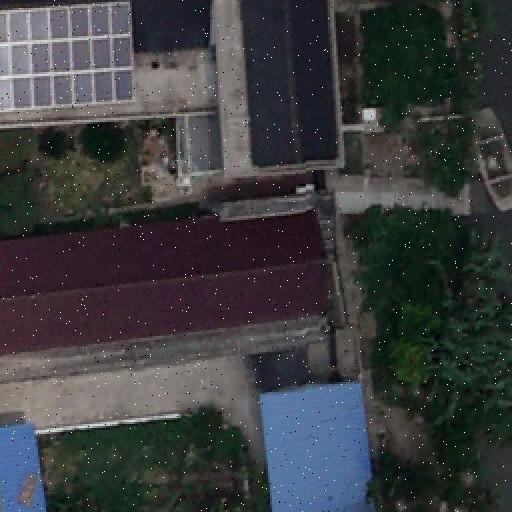solar-panel: (0, 0, 142, 114)
